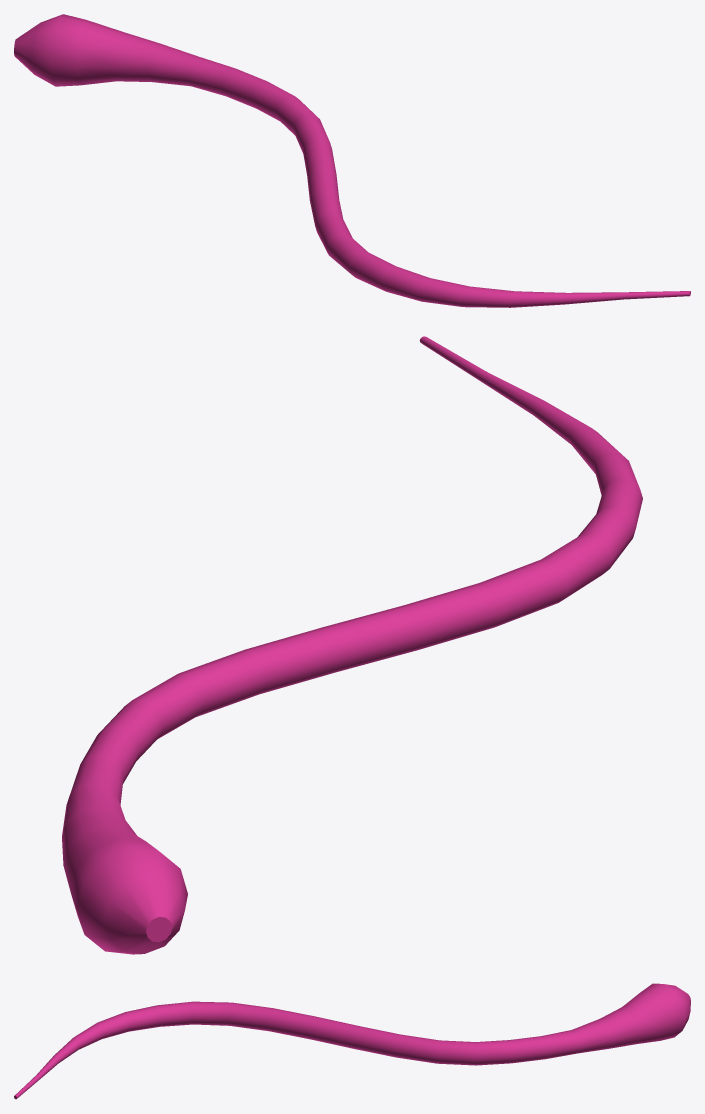
Rendered from Snake_1.fbx.
The picture shows the model from 3 angles, top to bottom: view 1: azimuth 30°, elevation 25°; view 2: azimuth 150°, elevation 25°; view 3: azimuth 270°, elevation 25°; orthographic projection. The views are drawn at different scales.
Parts seen in each view (by area): view 1: Snake_1; view 2: Snake_1; view 3: Snake_1.
Boxes of the visible parts, x1,y1,x2,y2 form: Snake_1: [14, 14, 690, 307]; Snake_1: [62, 336, 642, 954]; Snake_1: [14, 983, 690, 1099].
Size of the model in its own units: 38.89 by 9.45 by 110.
